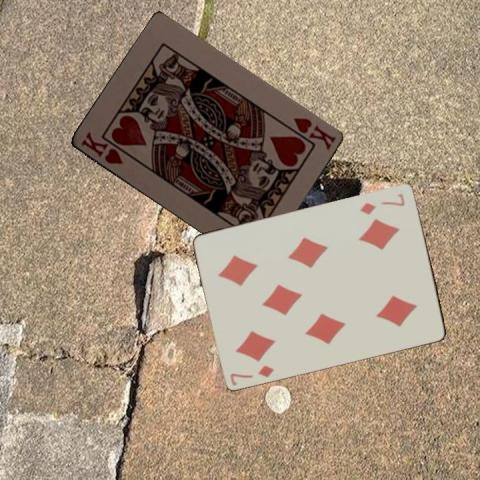7d: (356, 190, 406, 215), (228, 362, 276, 387)
Kh: (77, 129, 124, 166), (290, 115, 337, 151)
